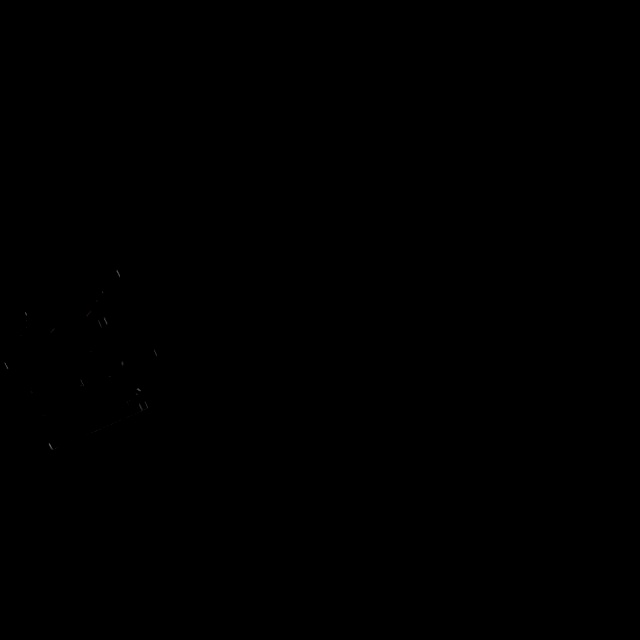satellite: (4, 258, 164, 450)
